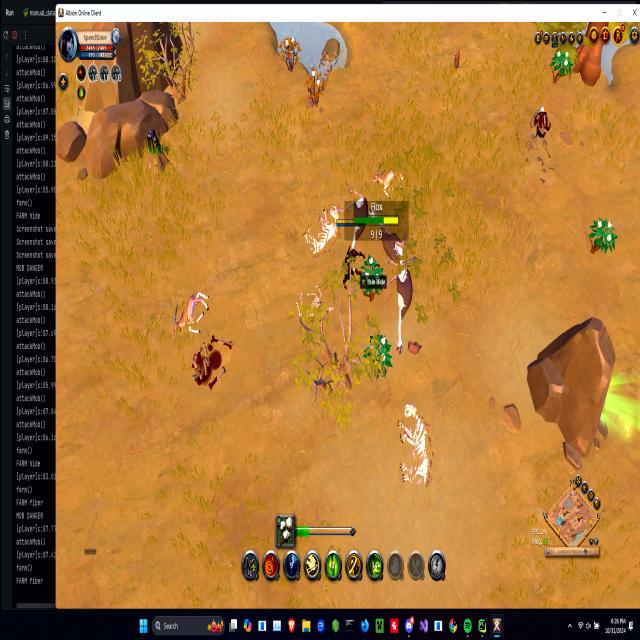hide: (359, 254, 384, 299), (592, 214, 616, 258), (279, 32, 302, 76), (370, 332, 392, 377), (304, 66, 326, 109), (552, 47, 572, 82)
mob: (382, 258, 416, 359), (340, 186, 367, 274), (170, 286, 210, 336), (375, 216, 410, 270), (373, 159, 407, 197)
ore: (530, 102, 551, 150)
player: (141, 125, 170, 179)
red: (336, 217, 361, 293)
